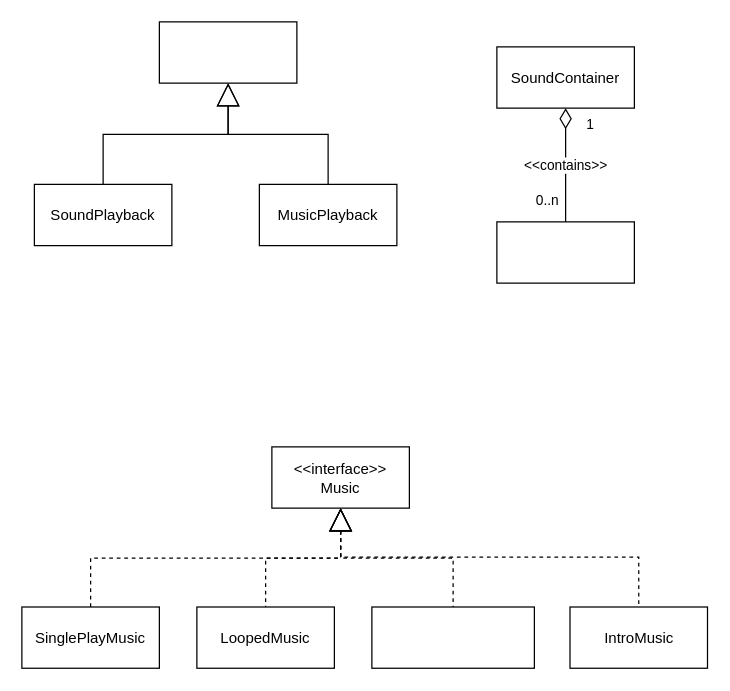
The diagram is 730 pixels wide and 691 high, and some of its shapes have lost their labels. The centre of each missing label's shape, as x and y in pixels:
MultipleSoundsMusic: [452,637]
Playback {abstract}: [227,52]
Sound: [565,252]
